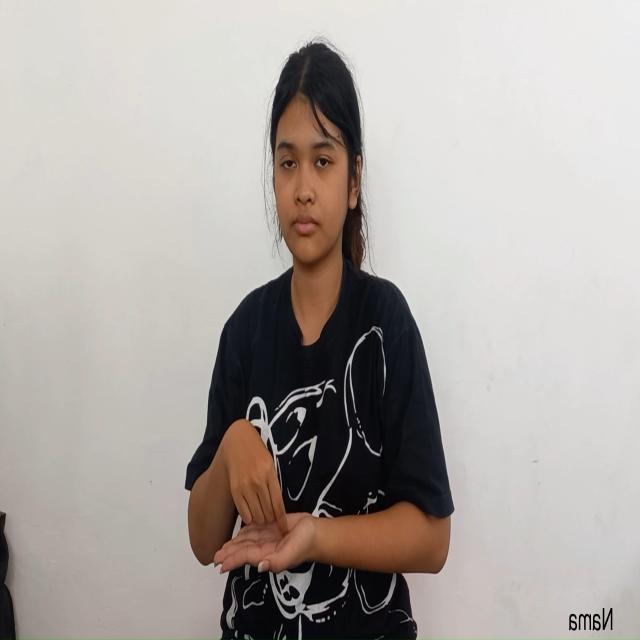Nama -BISINDO-: (207, 414, 324, 591)
